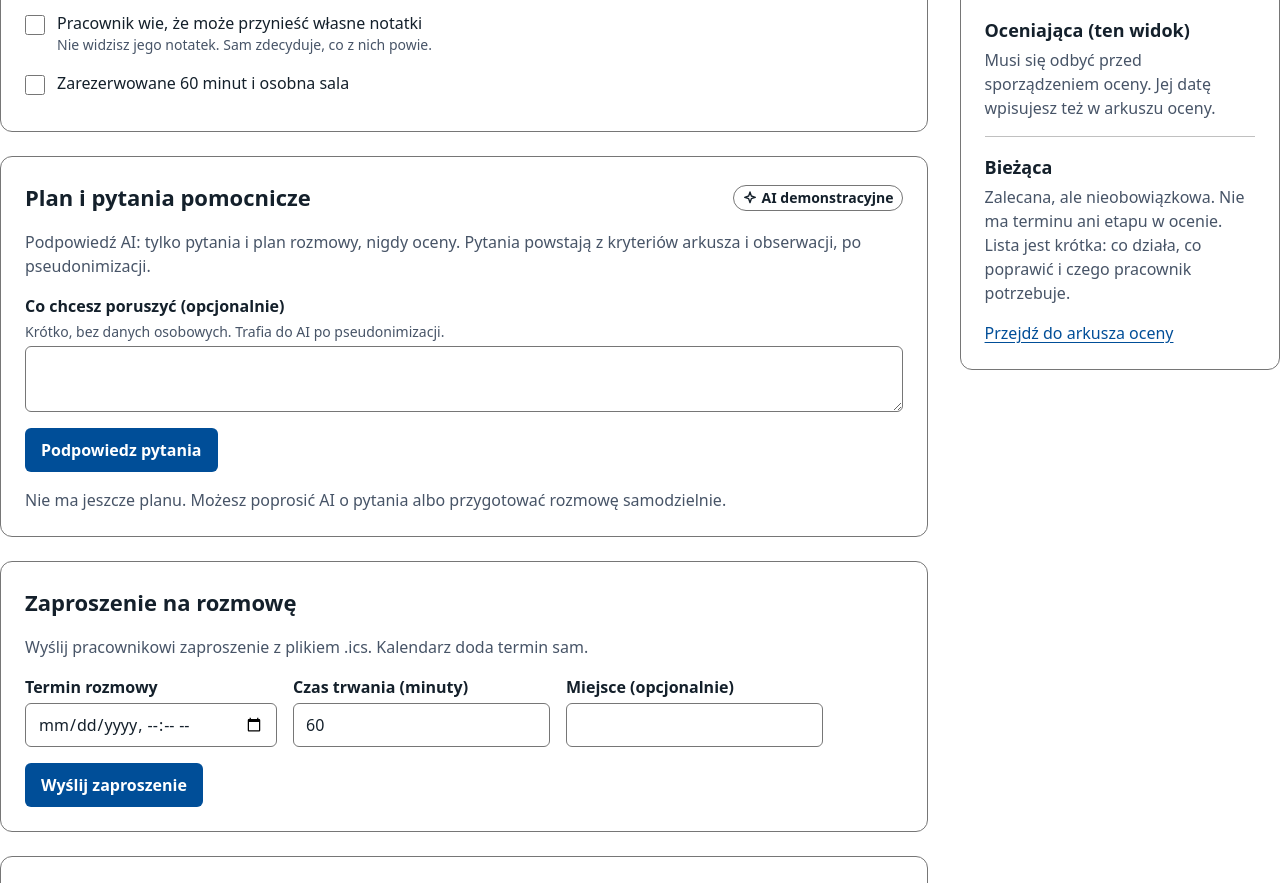
Test case: ConversationPage › asks the AI only for questions and marks them with the AI badge
(page scrolled)
Expected: the text "AI demonstracyjne" is shown, [762, 188, 894, 208]
Click the button "Podpowiedz pytania" at (121, 450), box [25, 428, 218, 472]
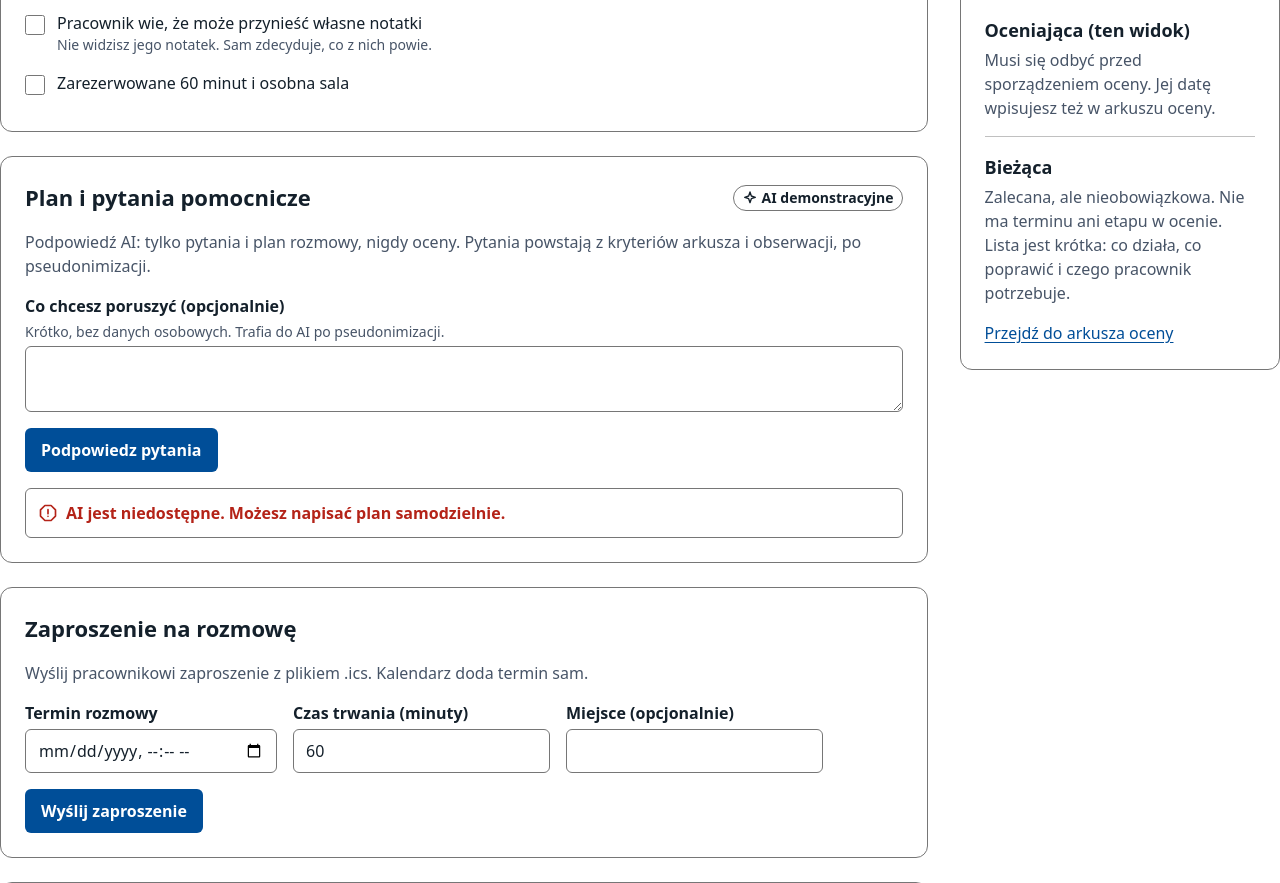
Now the message shows "AI jest niedostępne", box [66, 502, 505, 524]
